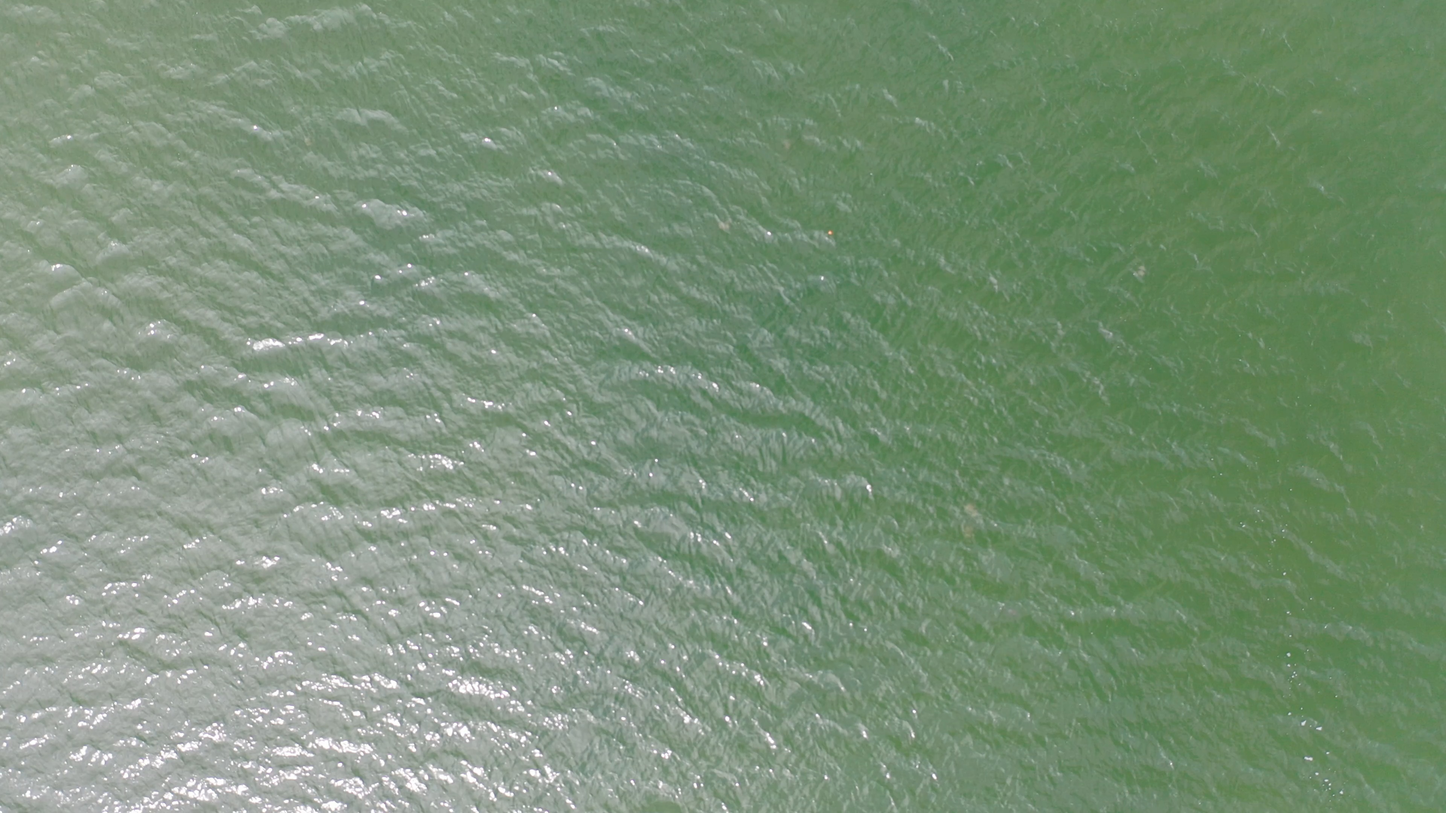meduse: (965, 504, 978, 516), (964, 526, 975, 538), (718, 222, 732, 231), (1006, 608, 1017, 617), (1138, 265, 1146, 276), (784, 141, 792, 151), (1313, 109, 1323, 117)
